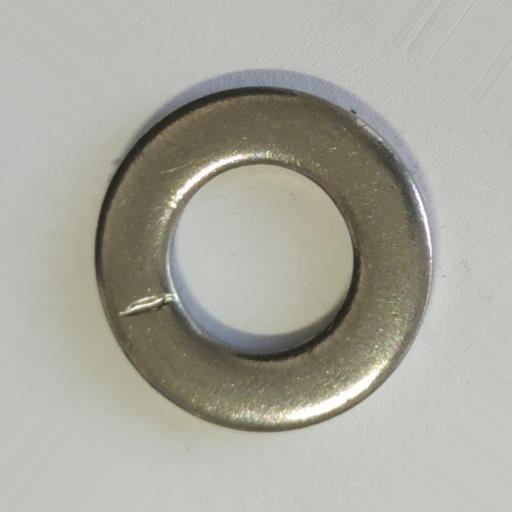scratch: (118, 291, 177, 319)
